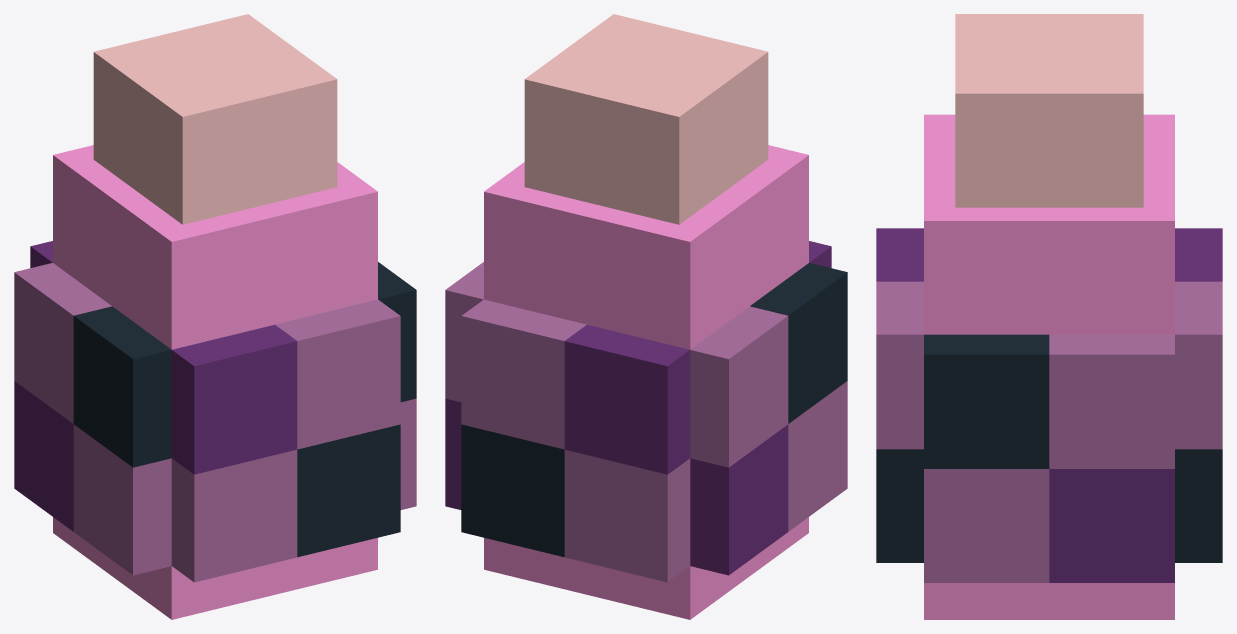
The model's file is egg_apatosaurus.obj.
3 views of the same model, side by side, from view 1: azimuth 30°, elevation 25°; view 2: azimuth 150°, elevation 25°; view 3: azimuth 270°, elevation 25° (orthographic). The views are drawn at different scales.
Parts seen in each view (by area): view 1: egg_apatosaurus; view 2: egg_apatosaurus; view 3: egg_apatosaurus.
Boxes of the visible parts, x1,y1,x2,y2 form: egg_apatosaurus: (14, 14, 416, 619); egg_apatosaurus: (445, 14, 847, 619); egg_apatosaurus: (876, 14, 1222, 619).
Bounding box in the file's own units: 4.74 × 7.75 × 4.74.
